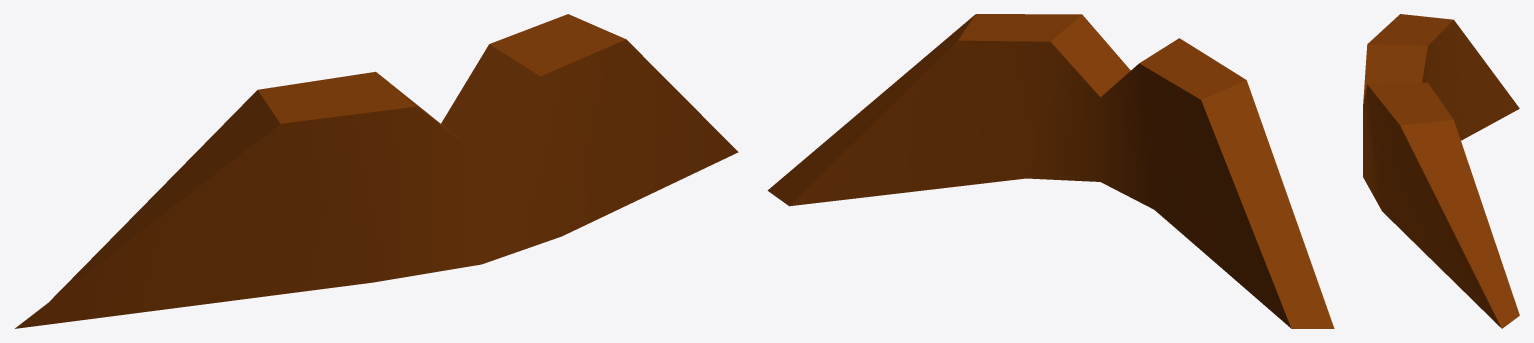
Rendered from Hair_20_C02.fbx.
The picture shows the model from 3 angles, left to right: view 1: azimuth 30°, elevation 25°; view 2: azimuth 150°, elevation 25°; view 3: azimuth 270°, elevation 25°; orthographic projection. The views are drawn at different scales.
Parts seen in each view (by area): view 1: Hair_20_C02; view 2: Hair_20_C02; view 3: Hair_20_C02.
Boxes of the visible parts, x1,y1,x2,y2 form: Hair_20_C02: (15, 14, 738, 328); Hair_20_C02: (767, 14, 1334, 328); Hair_20_C02: (1363, 14, 1519, 328).
Bounding box in the file's own units: 60 × 17.71 × 17.03.
